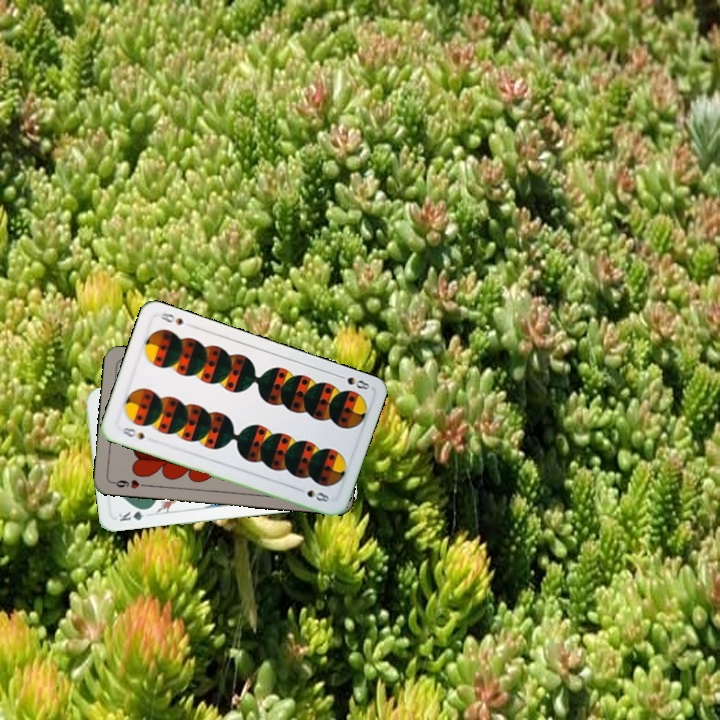GK: (114, 504, 153, 524)
H9: (108, 475, 149, 491)
S8: (333, 370, 372, 392), (118, 423, 147, 442)
